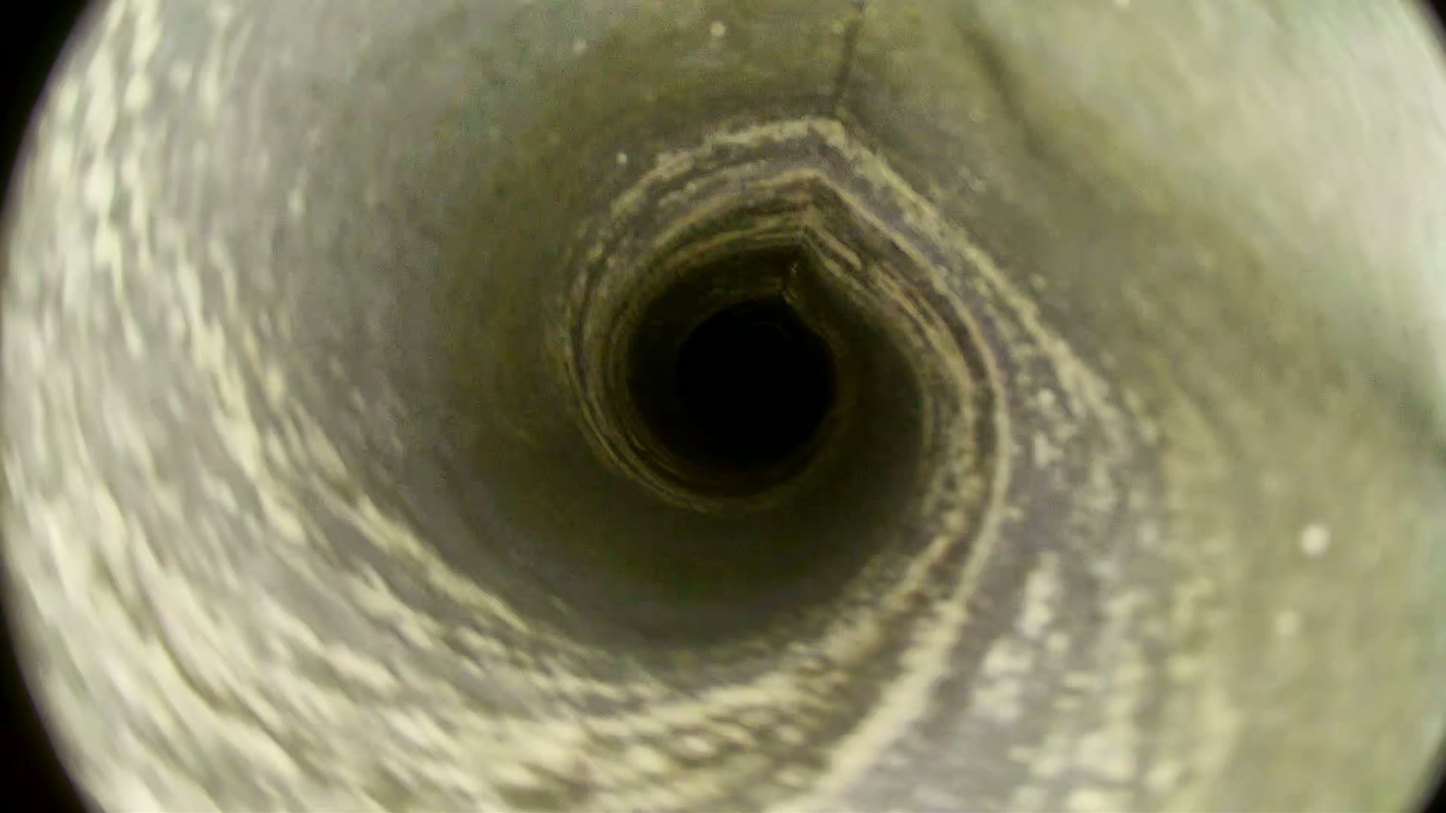hole: (680, 304, 834, 447)
